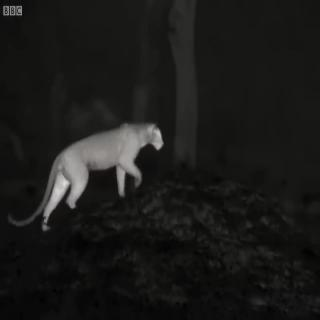Leopard: (16, 96, 174, 230)
